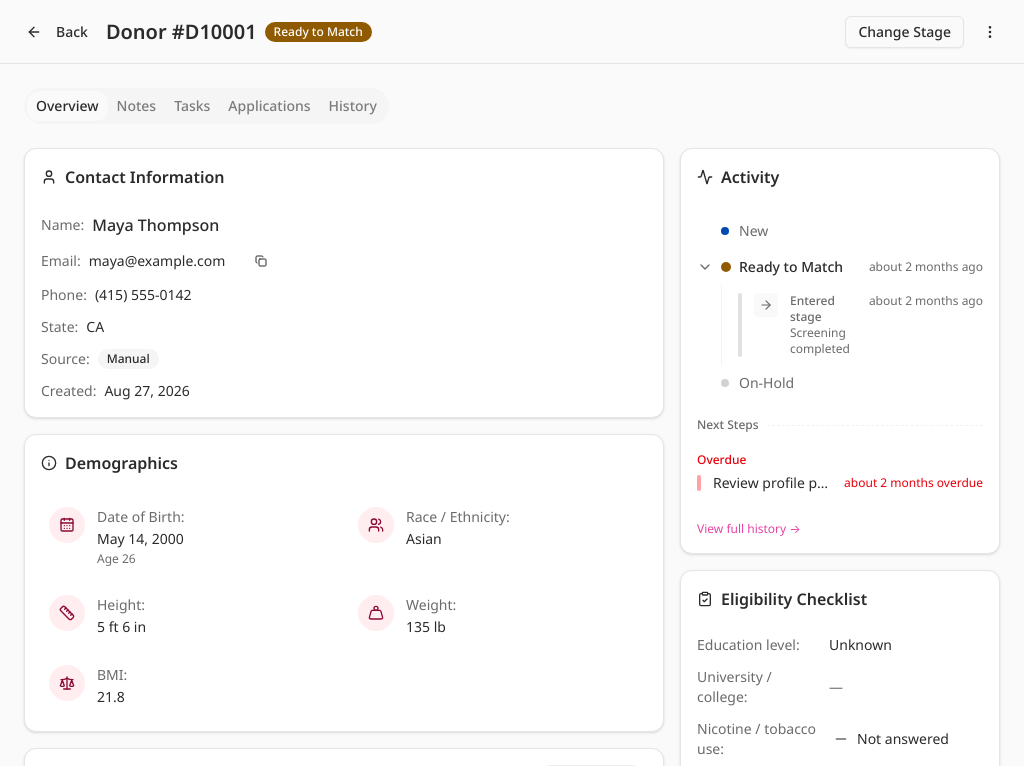
Scenario: DonorDetailPage › uses the compact entity header and action hierarchy shared by other detail pages
This screenshot has width=1024, height=766.
expect the button "Back" is shown: met, box left=16, top=16, right=98, bottom=48
expect the heading "Donor #D10001" is shown: met, box left=106, top=18, right=257, bottom=46
Click the button named "Actions for Maya Thompson" at (990, 32), box left=972, top=14, right=1008, bottom=50
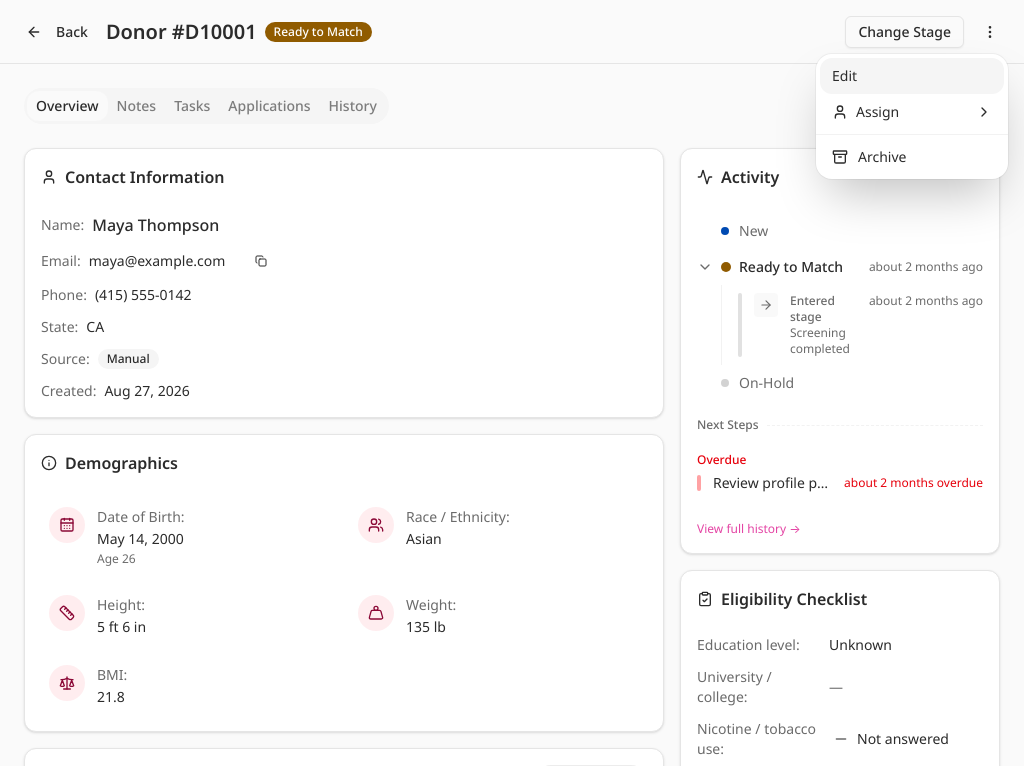
expect the menu item "Edit" is shown: met, box left=820, top=58, right=1004, bottom=94
expect the menu item "Archive" is shown: met, box left=832, top=147, right=906, bottom=166
